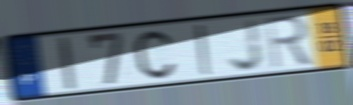7: (85, 31, 127, 87)
C: (132, 28, 177, 81)
I: (55, 34, 78, 92), (193, 22, 215, 77)
J: (227, 17, 266, 73)
R: (263, 13, 315, 71)
